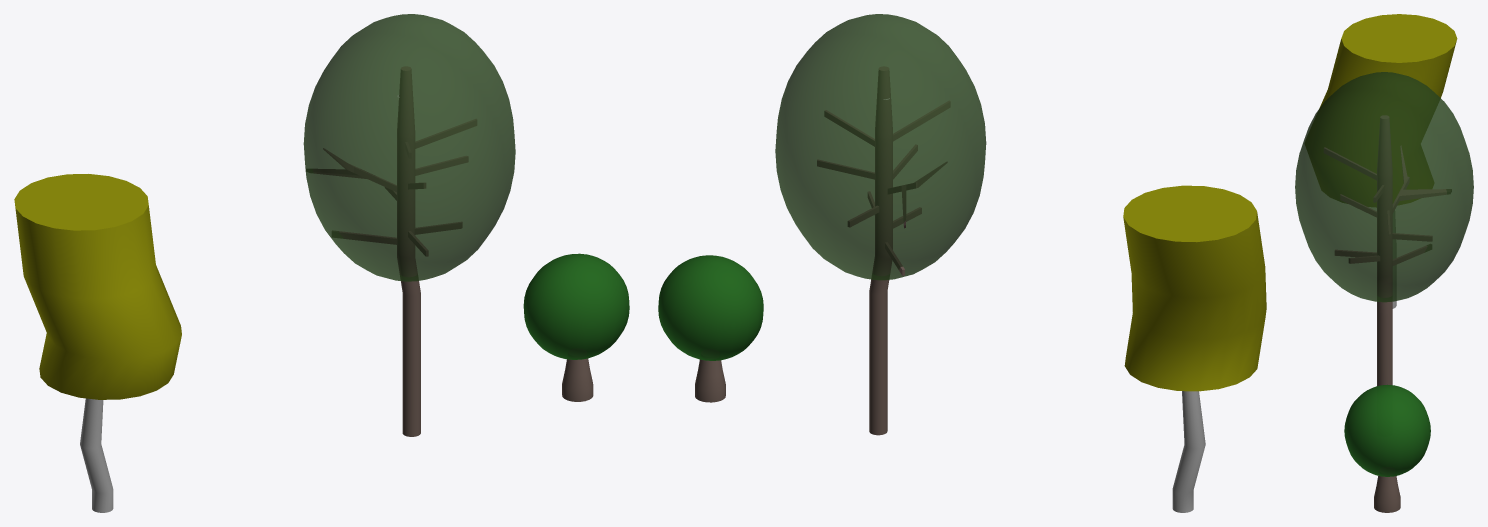
The model's file is arbres 1.fbx.
3 renders of one model, left to right at view 1: azimuth 30°, elevation 25°; view 2: azimuth 150°, elevation 25°; view 3: azimuth 270°, elevation 25°, orthographic. The views are drawn at different scales.
Parts seen in each view (by area): view 1: pSphere3, pCylinder6, pCylinder7; view 2: pSphere3, pCylinder6, pCylinder7; view 3: pSphere3, pCylinder6, pCylinder7.
Boxes of the visible parts, x1,y1,x2,y2 form: pSphere3: [303, 14, 515, 436]; pCylinder6: [14, 174, 181, 512]; pCylinder7: [523, 253, 629, 401]; pSphere3: [775, 14, 986, 435]; pCylinder6: [1123, 185, 1266, 512]; pCylinder7: [658, 255, 763, 402]; pSphere3: [1295, 72, 1473, 386]; pCylinder6: [1305, 14, 1457, 308]; pCylinder7: [1344, 384, 1430, 512].
Size of the model in its own units: 15.2 by 10.19 by 4.62.
